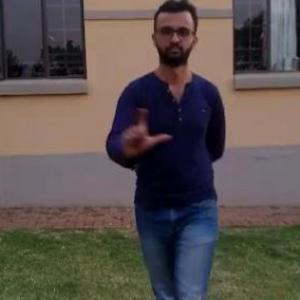land_hand: (117, 100, 173, 160)
